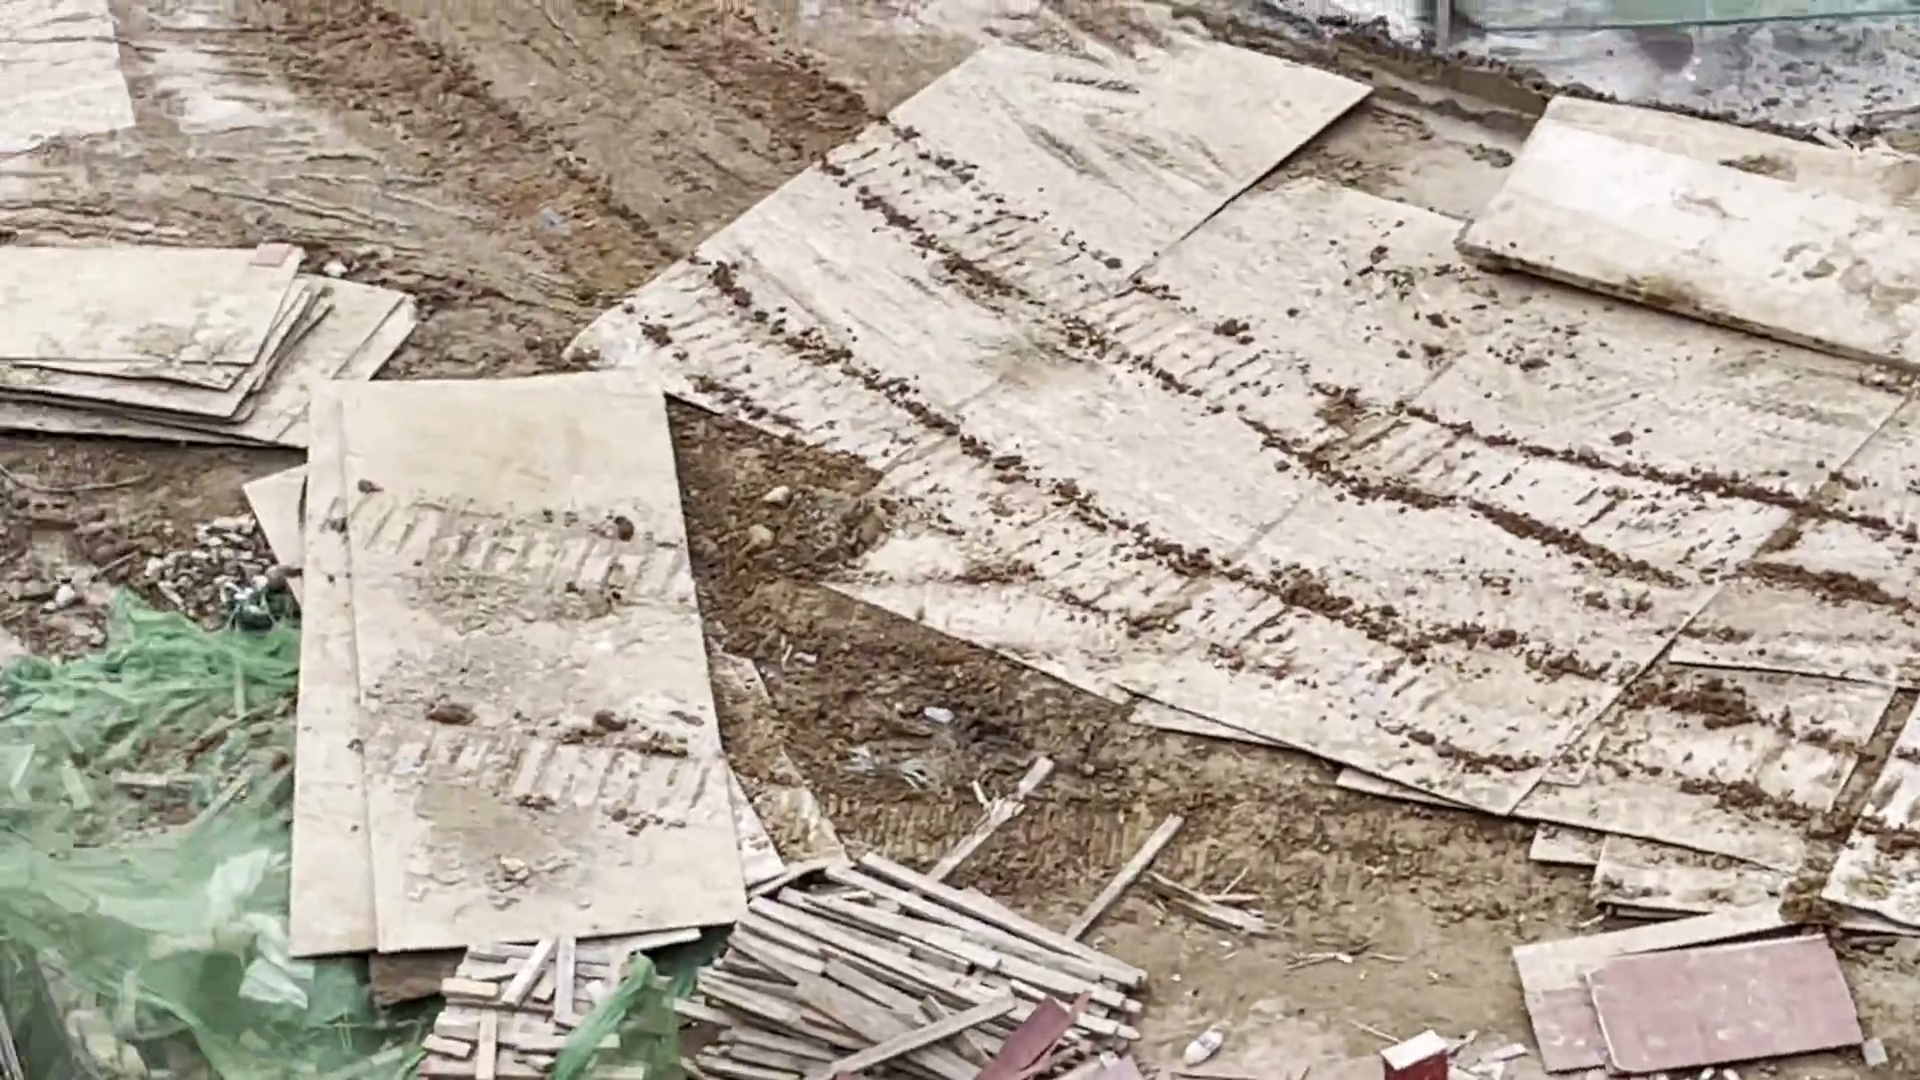board: (1494, 924, 1855, 1065)
